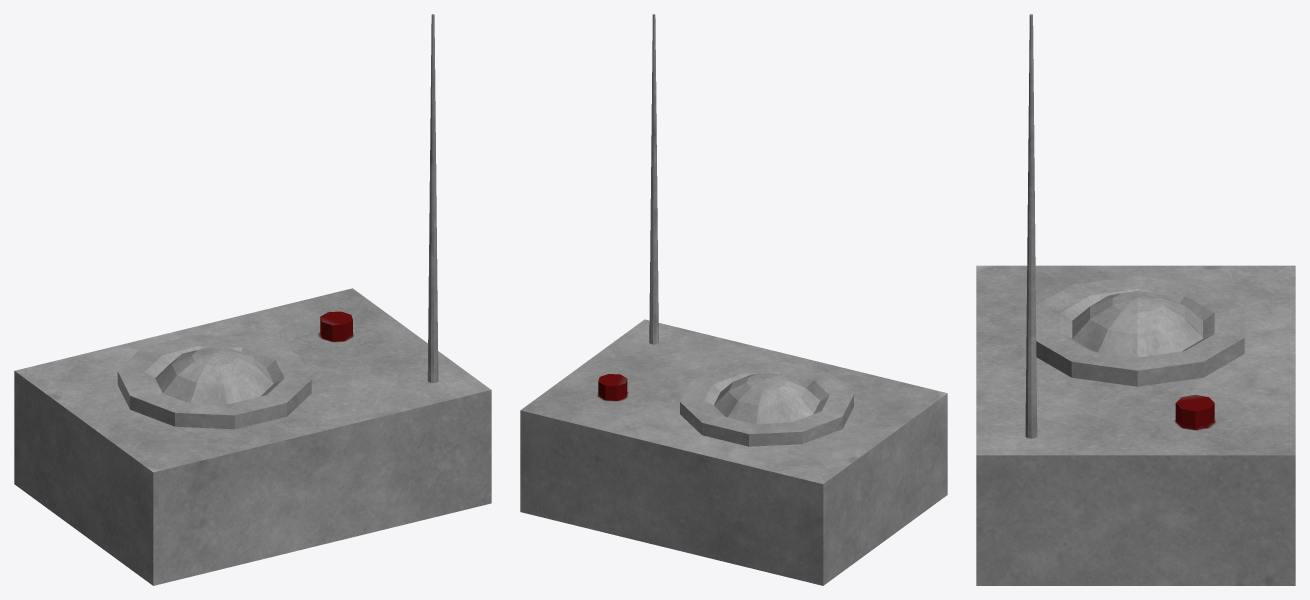
The model's file is Mine primer.fbx.
3 renders of one model, left to right at view 1: azimuth 30°, elevation 25°; view 2: azimuth 150°, elevation 25°; view 3: azimuth 270°, elevation 25°, orthographic. The views are drawn at different scales.
Visible parts, largest first — view 1: Mesh_Mine_Throwables; view 2: Mesh_Mine_Throwables; view 3: Mesh_Mine_Throwables.
Boxes of the visible parts, bbox=[...] form: Mesh_Mine_Throwables: bbox=[14, 14, 491, 585]; Mesh_Mine_Throwables: bbox=[520, 14, 947, 585]; Mesh_Mine_Throwables: bbox=[976, 14, 1295, 585].
Bounding box in the file's own units: 39.22 × 53.16 × 27.89.
1 material, 1 textured.
